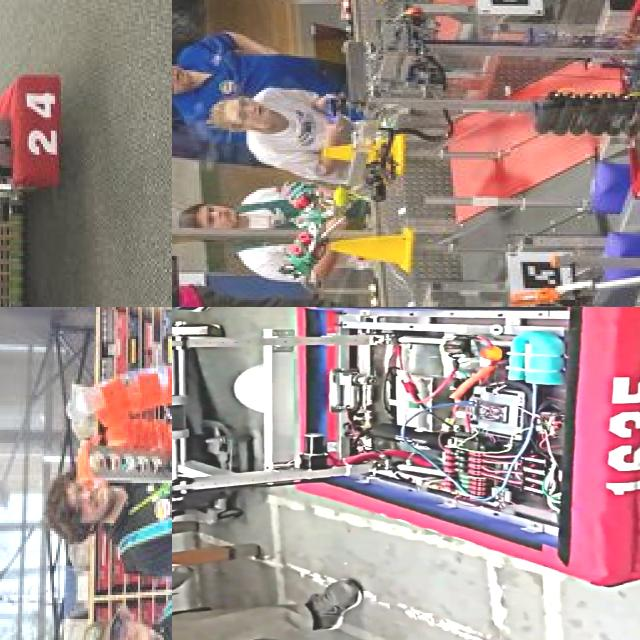FRC-Robots: (172, 307, 640, 640), (306, 0, 640, 225), (80, 307, 172, 640), (0, 49, 87, 307)
